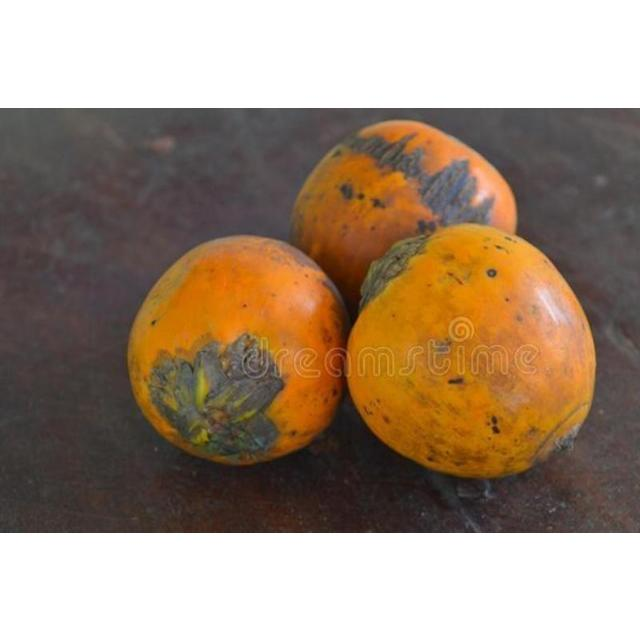good: (345, 223, 597, 481), (126, 234, 354, 468), (288, 119, 519, 313)
